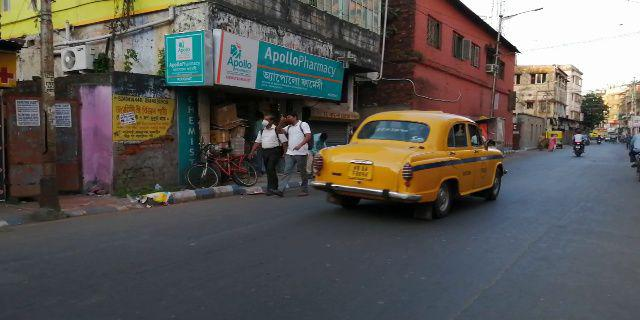Car: (307, 106, 509, 217)
Cycle: (183, 138, 260, 189)
Motorbike: (570, 129, 587, 159)
